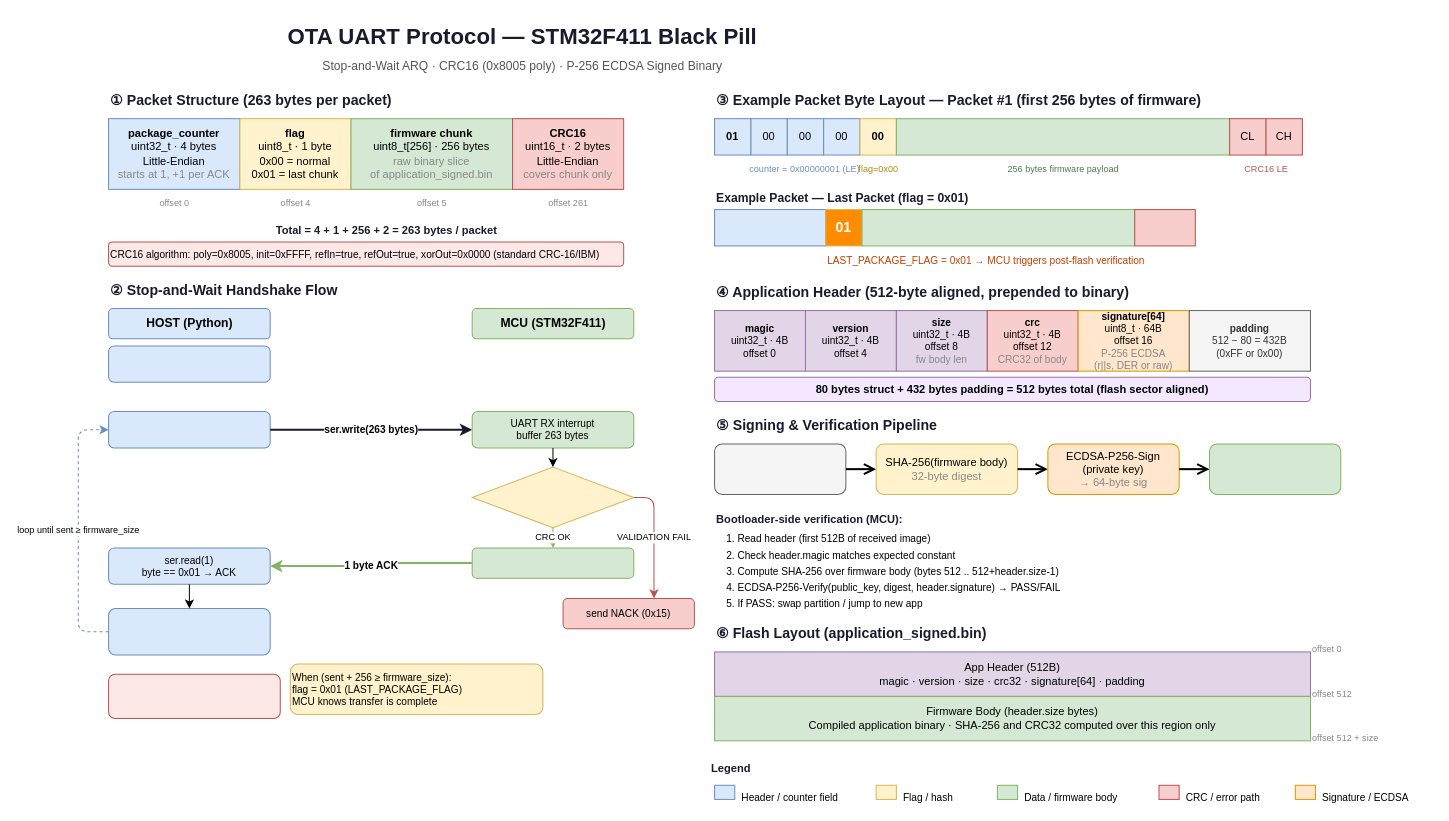
Image size: 1449x821. Some labels were removed from this diagram. The centre of each missing label's shape, as x and y in pixels:
build packet N: header + chunk[256] + CRC16(chunk): (189,429)
CL CH: (1164,227)
D0 D1 D2 … D255 (256 bytes of firmware data): (1062,136)
last chunk (≤256 bytes, zero-padded if needed): (998,227)
NN NN NN NN: (770,227)
open application_signed.bin compute firmware_size: (189,363)
raw firmware.bin compiled output: (780,468)
send ACK (0x01): (552,562)
sent += 256 package_counter += 1 next iteration: (189,631)
ser.read(1) → empty (timeout=4s) → print 'Timeout' and break: (194,696)
validate payload write chunk to flash: (552,497)
write to header.signature prepend 512B header → application_signed.bin: (1274,468)
